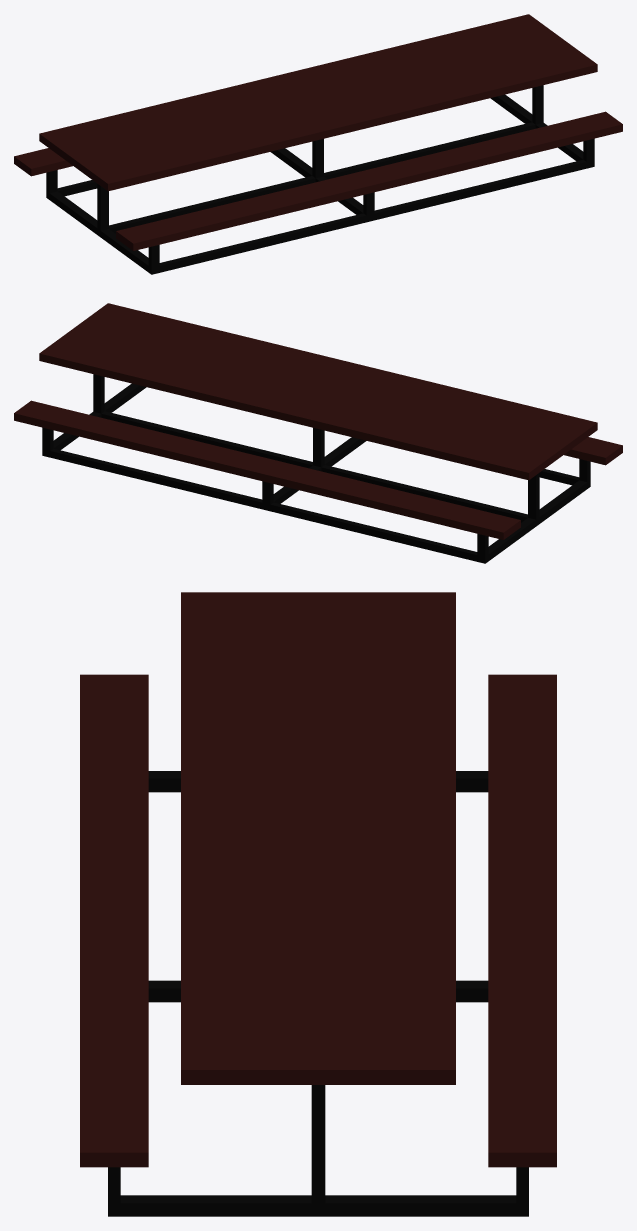
The model's file is cafeteria_table.glb.
The picture shows the model from 3 angles, top to bottom: view 1: azimuth 30°, elevation 25°; view 2: azimuth 150°, elevation 25°; view 3: azimuth 270°, elevation 25°; orthographic projection. The views are drawn at different scales.
Parts seen in each view (by area): view 1: Cube.002; view 2: Cube.002; view 3: Cube.002.
Boxes of the visible parts, <box> form: Cube.002: <box>14,14,622,274</box>; Cube.002: <box>14,303,622,563</box>; Cube.002: <box>80,592,556,1216</box>.
Bounding box in the file's own units: 6 × 0.9802 × 2.53.
